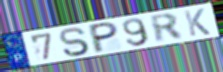7: (29, 31, 54, 61)
9: (121, 17, 151, 47)
K: (182, 7, 212, 37)
P: (89, 20, 120, 55)
R: (148, 12, 186, 45)
S: (58, 26, 92, 58)
